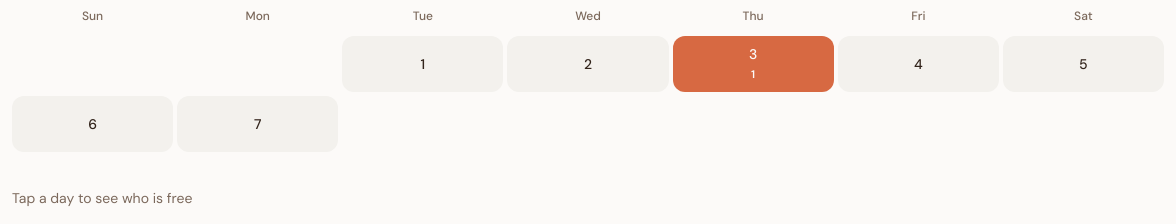
it: AvailabilityCalendar › who is free, in read-only mode › honours the participant filter
Click the button "3 1" at (753, 64), box [673,36,834,92]
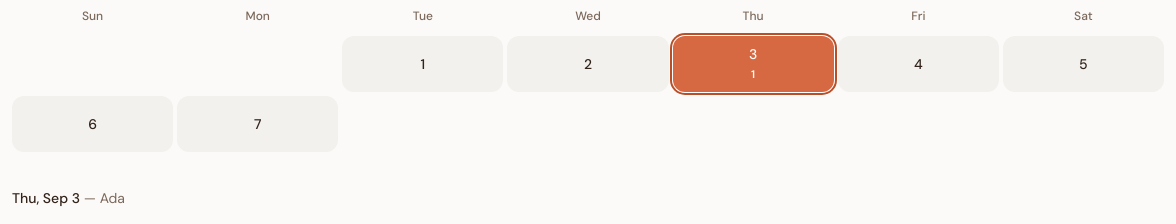
Expected: the element with test id "availability-detail" does not show "Bo", [12,189,125,207]
Expected: the element with test id "availability-detail" shows "Ada", [100,189,125,207]
